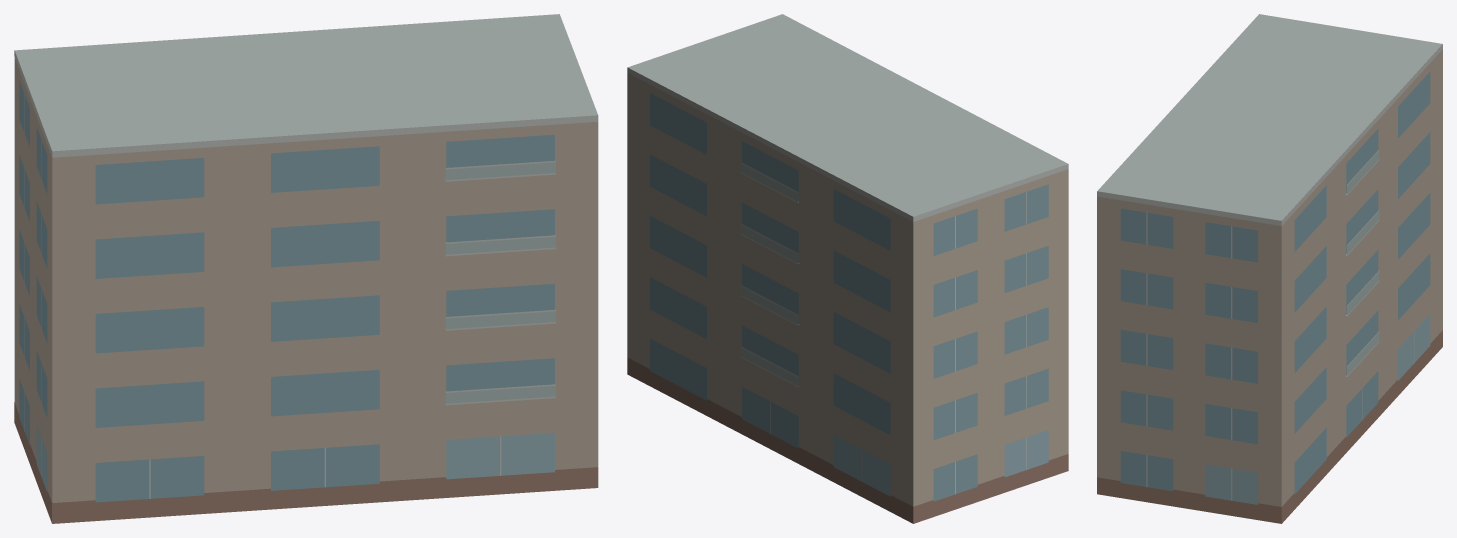
File: survey-upis-32879227.glb
The picture shows the model from 3 angles, left to right: view 1: azimuth 30°, elevation 25°; view 2: azimuth 150°, elevation 25°; view 3: azimuth 270°, elevation 25°; orthographic projection. The views are drawn at different scales.
Visible parts, largest first — view 1: survey-upis-32879227.tmp; view 2: survey-upis-32879227.tmp; view 3: survey-upis-32879227.tmp.
Boxes of the visible parts, <box> form: survey-upis-32879227.tmp: <box>14,14,598,523</box>; survey-upis-32879227.tmp: <box>627,14,1068,523</box>; survey-upis-32879227.tmp: <box>1097,14,1442,523</box>.
Bounding box in the file's own units: 20.88 × 14.25 × 14.75.
